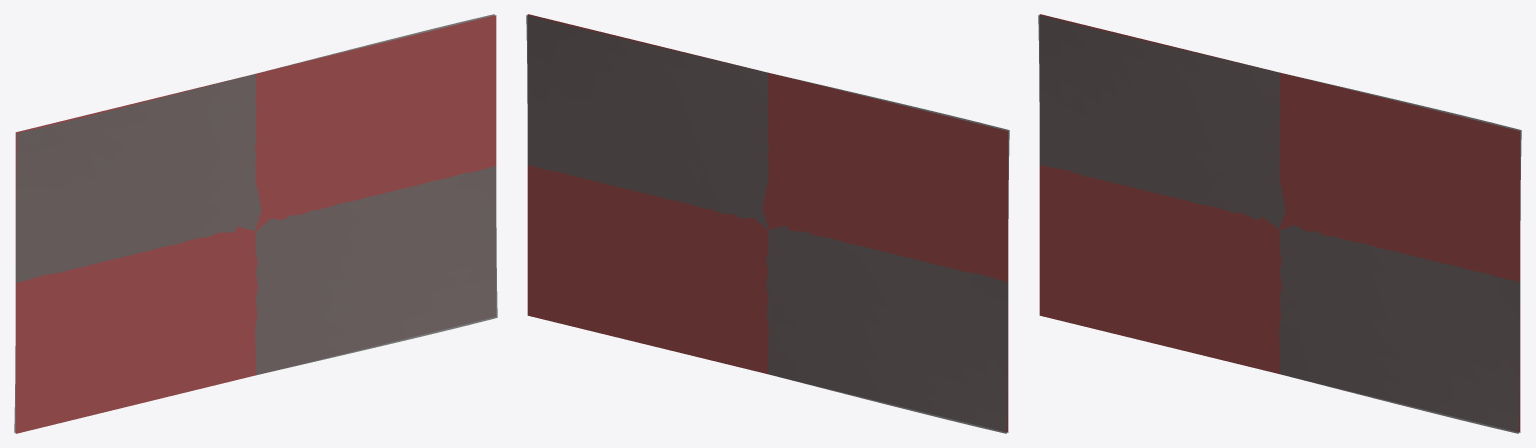
File: warping-rectangle-60-100-334.glb
3 views of the same model, side by side, from view 1: azimuth 30°, elevation 25°; view 2: azimuth 150°, elevation 25°; view 3: azimuth 330°, elevation 25° (orthographic).
Parts seen in each view (by area): view 1: undeformed cross-section, cross-section with warping; view 2: undeformed cross-section, cross-section with warping; view 3: undeformed cross-section, cross-section with warping.
Boxes of the visible parts, left/top/right/bottom form: undeformed cross-section: left=15, top=15, right=496, bottom=433; cross-section with warping: left=14, top=14, right=497, bottom=432; undeformed cross-section: left=527, top=14, right=1008, bottom=432; cross-section with warping: left=526, top=15, right=1009, bottom=433; undeformed cross-section: left=1039, top=14, right=1520, bottom=432; cross-section with warping: left=1038, top=15, right=1521, bottom=433.
Bounding box in the file's own units: 0.1 × 0.06 × 0.0013.
